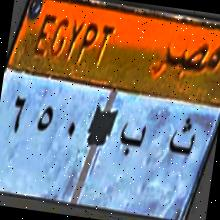0: (63, 116, 79, 144)
5: (34, 96, 56, 147)
6: (7, 96, 27, 139)
baa: (116, 112, 150, 164)
thaa: (165, 112, 199, 163)
